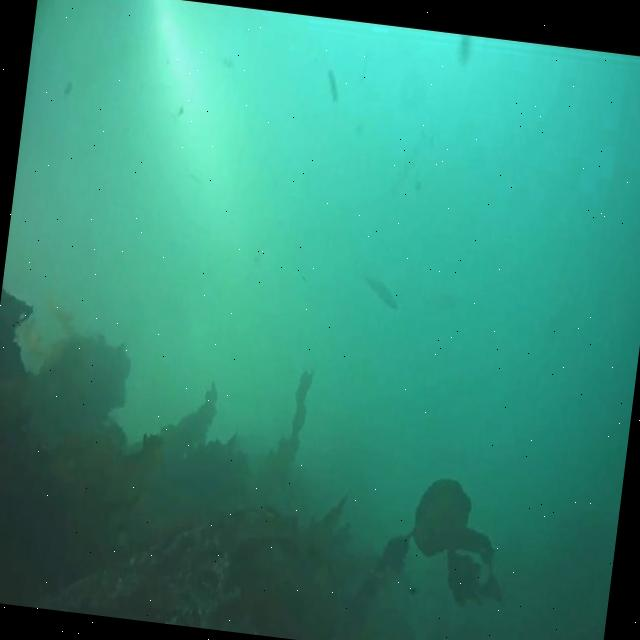fish: (362, 276, 404, 316)
